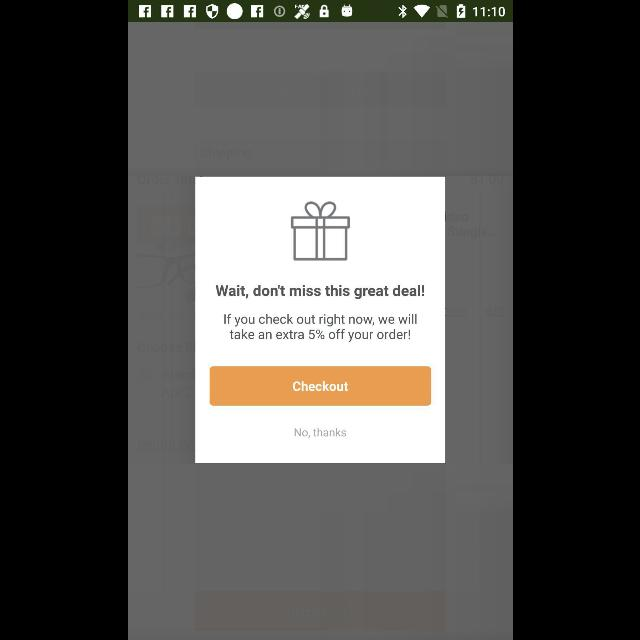icon: (290, 202, 350, 260)
panel: (195, 177, 445, 463)
text: (224, 314, 416, 342), (214, 284, 423, 300), (294, 428, 346, 438)
textbutton: (209, 366, 431, 406)
uppertaskbar: (128, 1, 512, 23)
